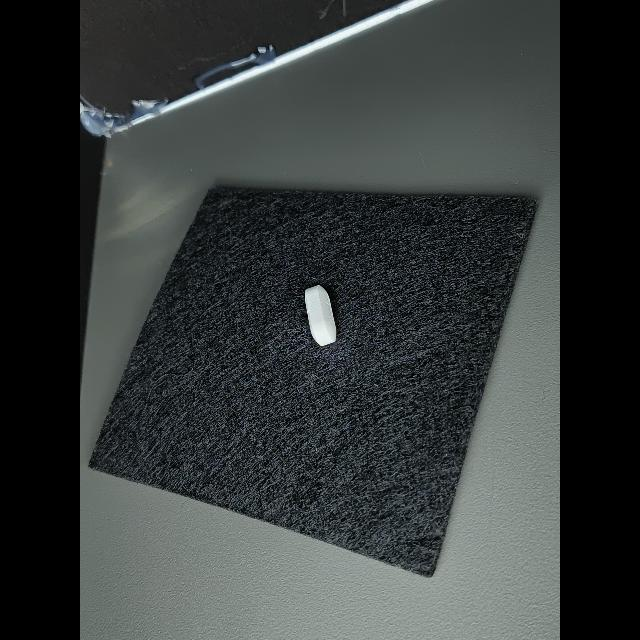Intact Pill: (305, 285, 336, 346)
